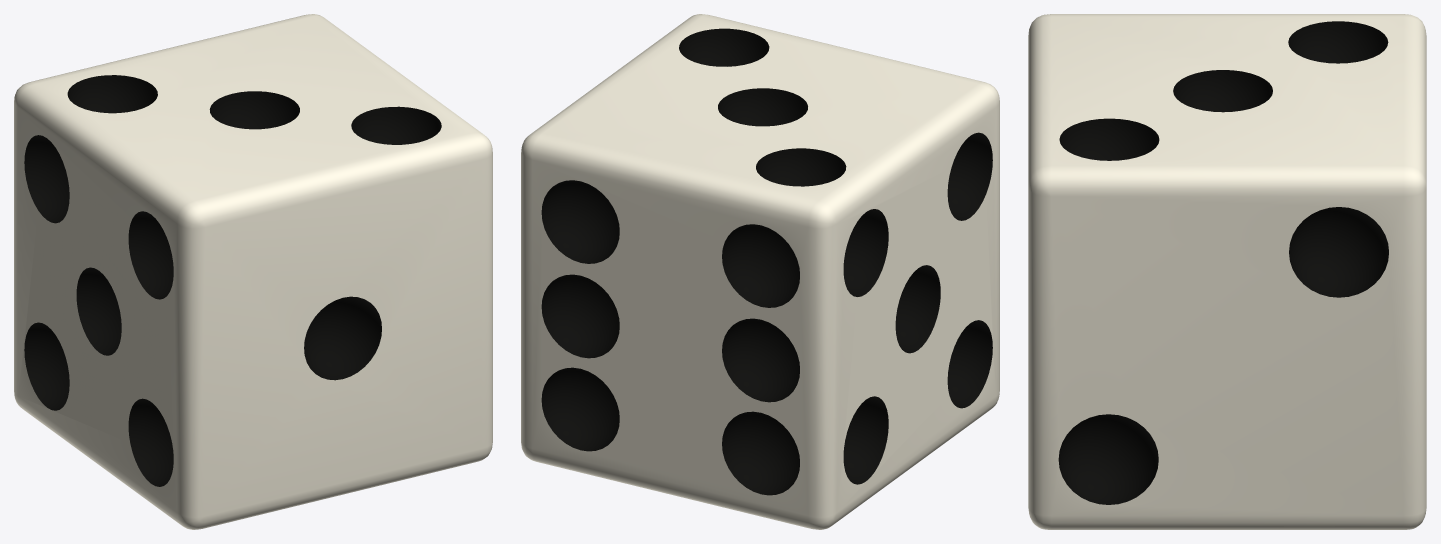
Rendered from die.glb.
3 renders of one model, left to right at view 1: azimuth 30°, elevation 25°; view 2: azimuth 150°, elevation 25°; view 3: azimuth 270°, elevation 25°, orthographic. The views are drawn at different scales.
Parts seen in each view (by area): view 1: Box001_Material #25_0; view 2: Box001_Material #25_0; view 3: Box001_Material #25_0.
Boxes of the visible parts, bbox=[...] form: Box001_Material #25_0: bbox=[14, 14, 492, 529]; Box001_Material #25_0: bbox=[521, 14, 999, 529]; Box001_Material #25_0: bbox=[1028, 14, 1426, 529].
Bounding box in the file's own units: 40 × 40 × 40.
Materials: 1 (1 with a texture image).
